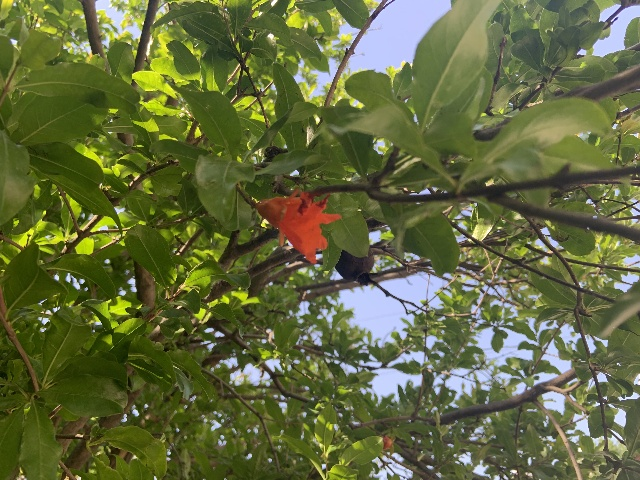bud: (382, 436, 393, 451)
flower: (256, 187, 341, 263)
